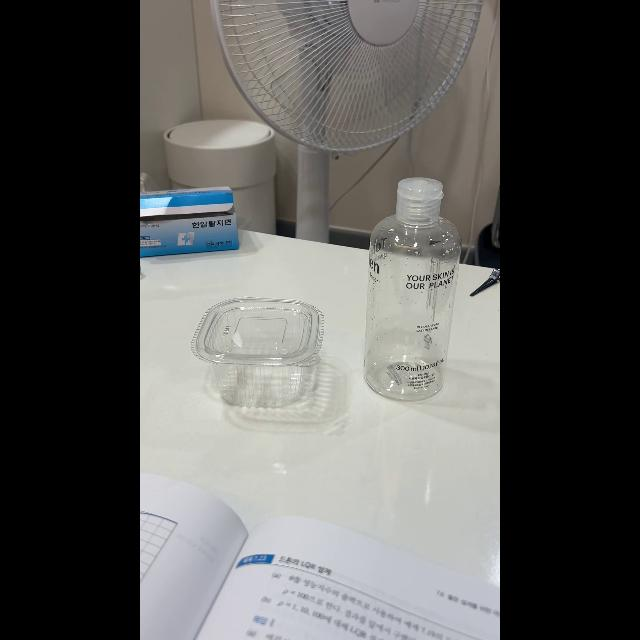clean: (364, 180, 462, 394), (193, 296, 327, 408)
